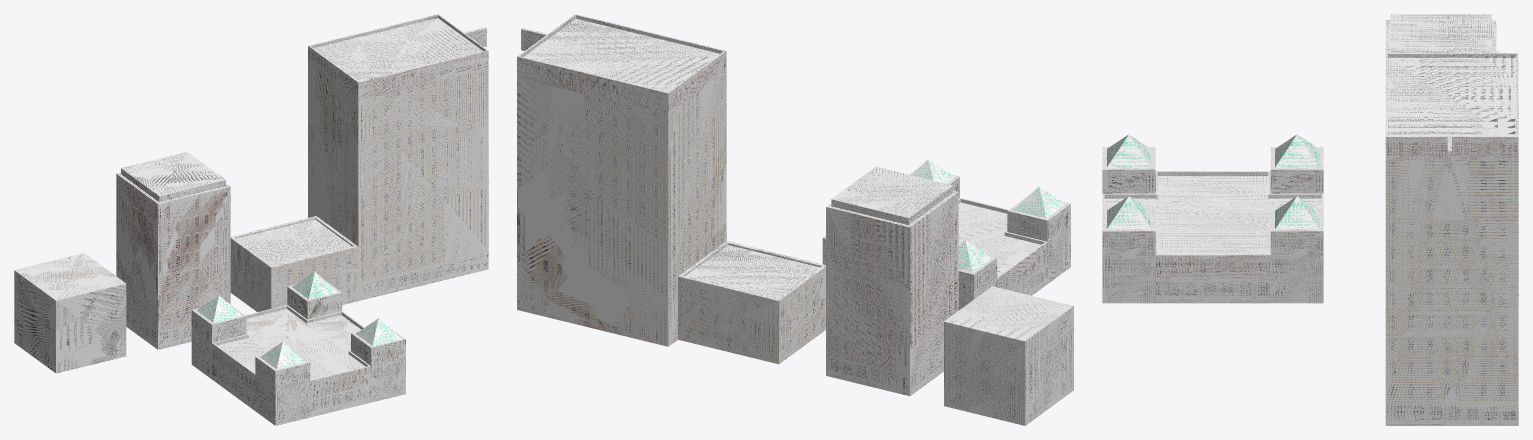
Rendered from Building_7.fbx.
3 renders of one model, left to right at view 1: azimuth 30°, elevation 25°; view 2: azimuth 150°, elevation 25°; view 3: azimuth 270°, elevation 25°, orthographic. The views are drawn at different scales.
Parts seen in each view (by area): view 1: Group5, Group4, Group3, Group2, Group1; view 2: Group5, Group3, Group2, Group1, Group4; view 3: Group5, Group4, Group3.
Part boxes in pixels (box(x1,y1,x2,y2)): Group5: box(308, 14, 488, 300); Group4: box(191, 272, 405, 425); Group3: box(116, 152, 230, 349); Group2: box(14, 253, 126, 373); Group1: box(230, 216, 358, 311); Group5: box(517, 14, 726, 346); Group3: box(826, 166, 958, 396); Group2: box(944, 286, 1073, 425); Group1: box(678, 241, 825, 364); Group4: box(822, 159, 1070, 310); Group5: box(1385, 53, 1518, 425); Group4: box(1102, 134, 1323, 303); Group3: box(1385, 14, 1496, 52).
Size of the model in its own units: 3750 by 1728 by 2256.
